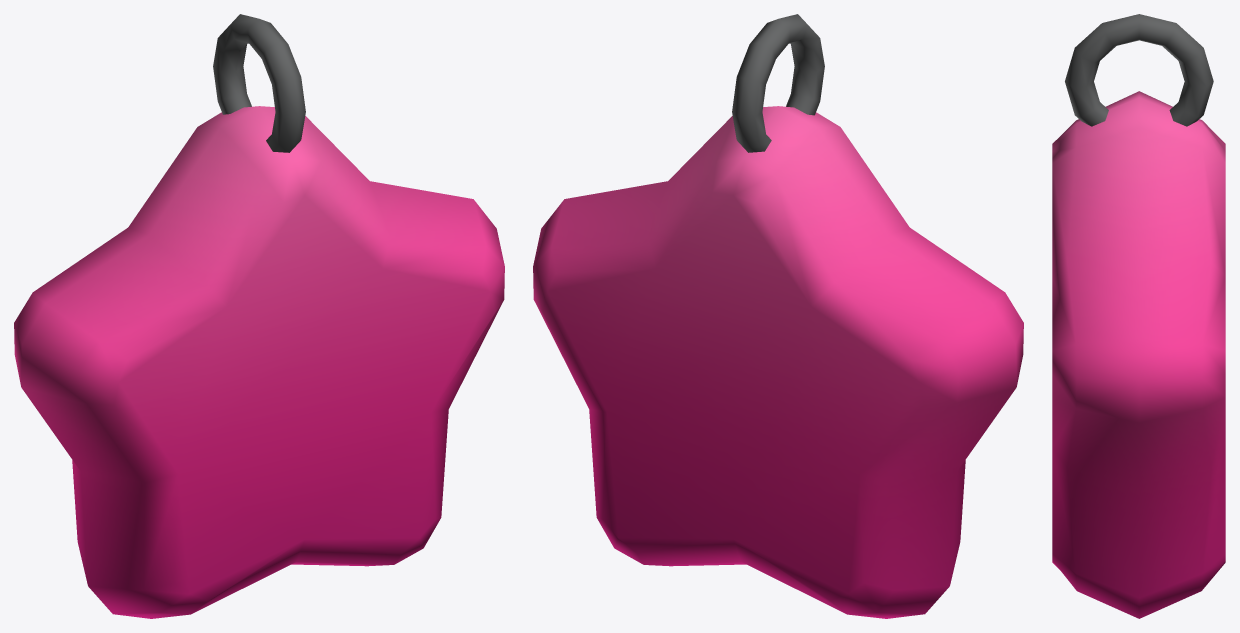
The model's file is Charm_05.fbx.
3 renders of one model, left to right at view 1: azimuth 30°, elevation 25°; view 2: azimuth 150°, elevation 25°; view 3: azimuth 270°, elevation 25°, orthographic. The views are drawn at different scales.
Visible parts, largest first — view 1: Charm_05; view 2: Charm_05; view 3: Charm_05.
Boxes of the visible parts, x1=… form: Charm_05: x1=14, y1=14, x2=504, y2=618; Charm_05: x1=533, y1=14, x2=1023, y2=618; Charm_05: x1=1052, y1=14, x2=1225, y2=618.
Bounding box in the file's own units: 4.46 × 5.13 × 1.47.
